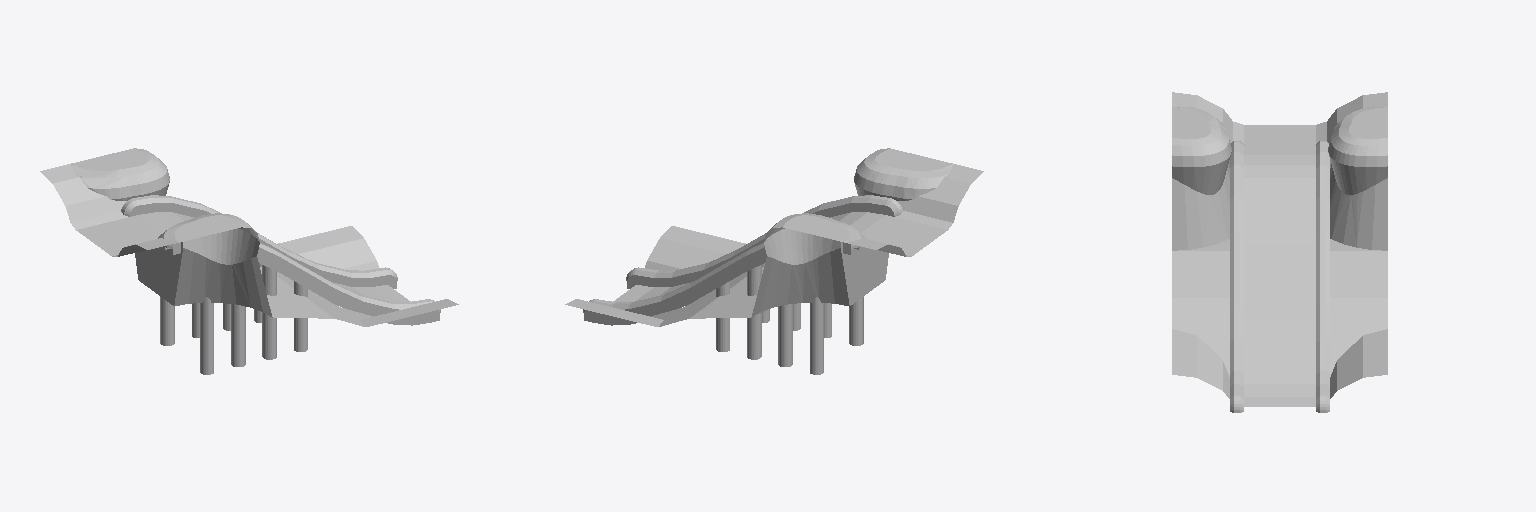
File: Track_Bridge_Cliff_Ramp_Hill_3x3.obj
The picture shows the model from 3 angles: view 1: azimuth 30°, elevation 25°; view 2: azimuth 150°, elevation 25°; view 3: azimuth 270°, elevation 25°; orthographic projection.
Parts seen in each view (by area): view 1: object11, object10, object5, object2, object13, object4, object3, object8, object7; view 2: object11, object5, object10, object2, object8, object12, object9, object13, object6; view 3: object11, object2, object10, object5.
Boxes of the visible parts, <box> form: object11: <box>40,148,458,326</box>; object10: <box>165,242,440,325</box>; object5: <box>121,195,397,288</box>; object2: <box>139,212,410,301</box>; object13: <box>200,297,213,374</box>; object4: <box>262,265,276,359</box>; object3: <box>231,304,245,366</box>; object8: <box>160,297,174,345</box>; object7: <box>294,281,307,351</box>; object11: <box>565,148,983,326</box>; object5: <box>583,242,858,325</box>; object10: <box>626,195,902,288</box>; object2: <box>613,212,884,301</box>; object8: <box>810,297,823,374</box>; object12: <box>747,265,761,359</box>; object9: <box>778,304,792,366</box>; object13: <box>849,297,863,345</box>; object6: <box>716,281,729,351</box>; object11: <box>1172,92,1387,398</box>; object2: <box>1244,155,1315,406</box>; object10: <box>1230,141,1243,412</box>; object5: <box>1316,141,1329,412</box>.
Size of the model in its own units: 5.2 by 2.6 by 3.